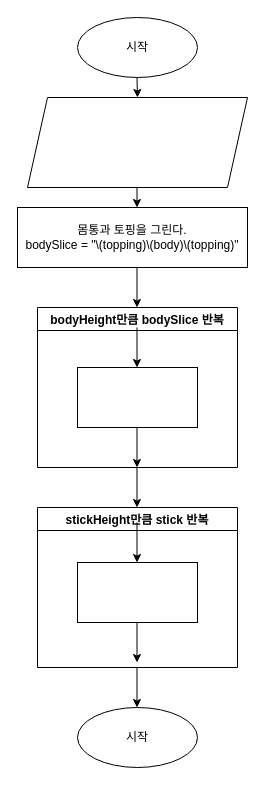
Image size: 265x785. Some labels were removed from this diagram. The centre of each missing label's shape, as x and y in pixels:
"<정보> 길이: bodyHeight 몸통: body 토핑: topping 막대길이: stickHeight 입력받음" belongs at point (137, 142).
"막대 프린트 print(stick)" belongs at point (137, 592).
"몸통 단면 프린트 print(bodySlice)" belongs at point (137, 397).
